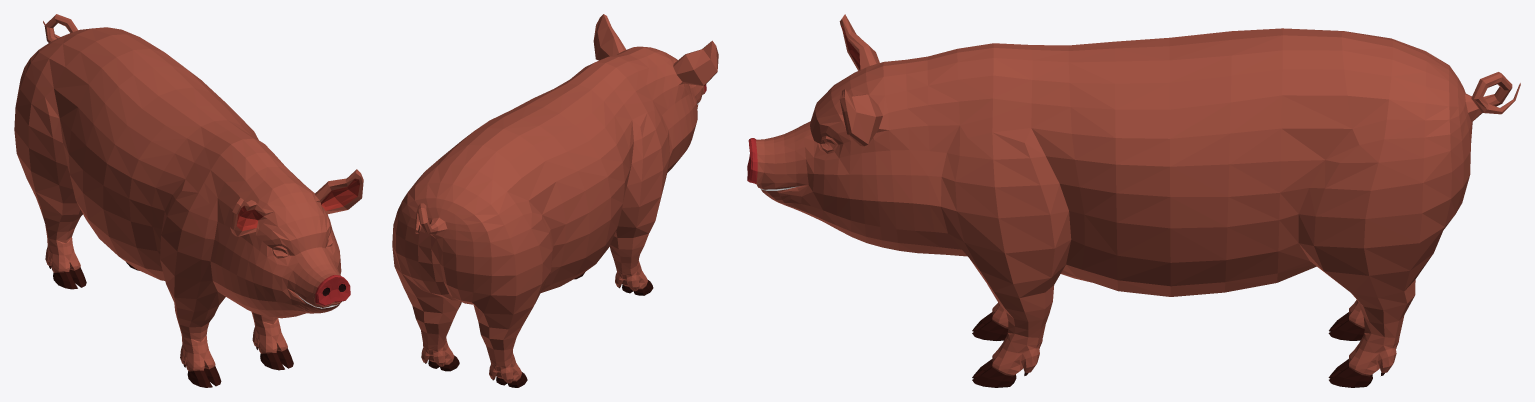
File: pig_pig.obj
3 renders of one model, left to right at view 1: azimuth 30°, elevation 25°; view 2: azimuth 150°, elevation 25°; view 3: azimuth 270°, elevation 25°, orthographic. The views are drawn at different scales.
Bounding box in the file's own units: 0.5229 × 0.8263 × 1.8.
